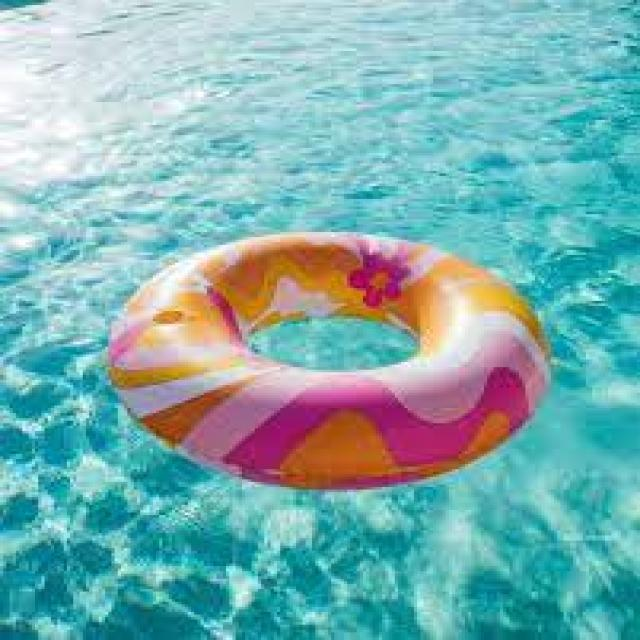lifesaver: (108, 232, 551, 490)
